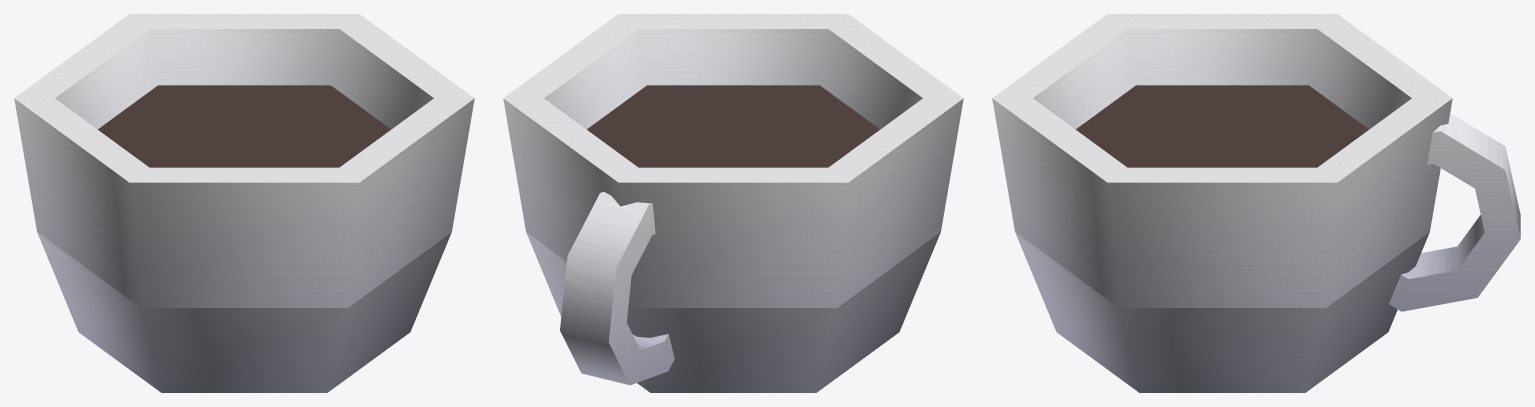
The model's file is cup-coffee.glb.
3 views of the same model, side by side, from view 1: azimuth 30°, elevation 25°; view 2: azimuth 150°, elevation 25°; view 3: azimuth 270°, elevation 25° (orthographic).
Visible parts, largest first — view 1: cup-coffee; view 2: cup-coffee; view 3: cup-coffee.
Part boxes in pixels (left/top/right/bottom): cup-coffee: left=14, top=14, right=474, bottom=392; cup-coffee: left=503, top=14, right=963, bottom=392; cup-coffee: left=992, top=14, right=1520, bottom=392.
Bounding box in the file's own units: 0.2163 × 0.14 × 0.2866.
Materials: 1 (1 with a texture image).
